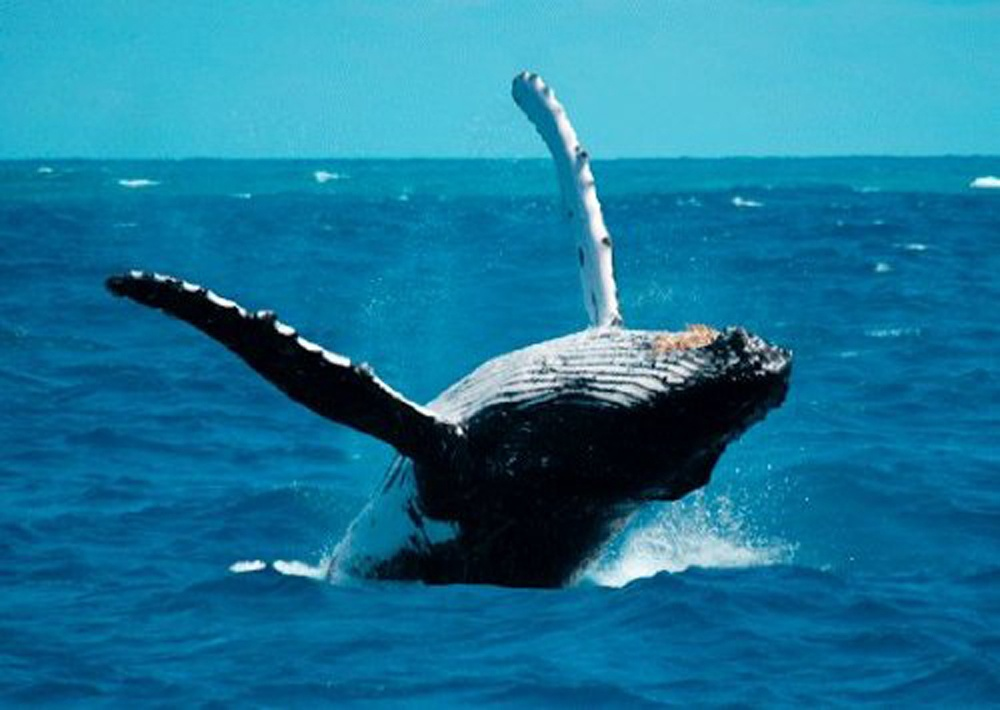humpback: (334, 327, 798, 583)
